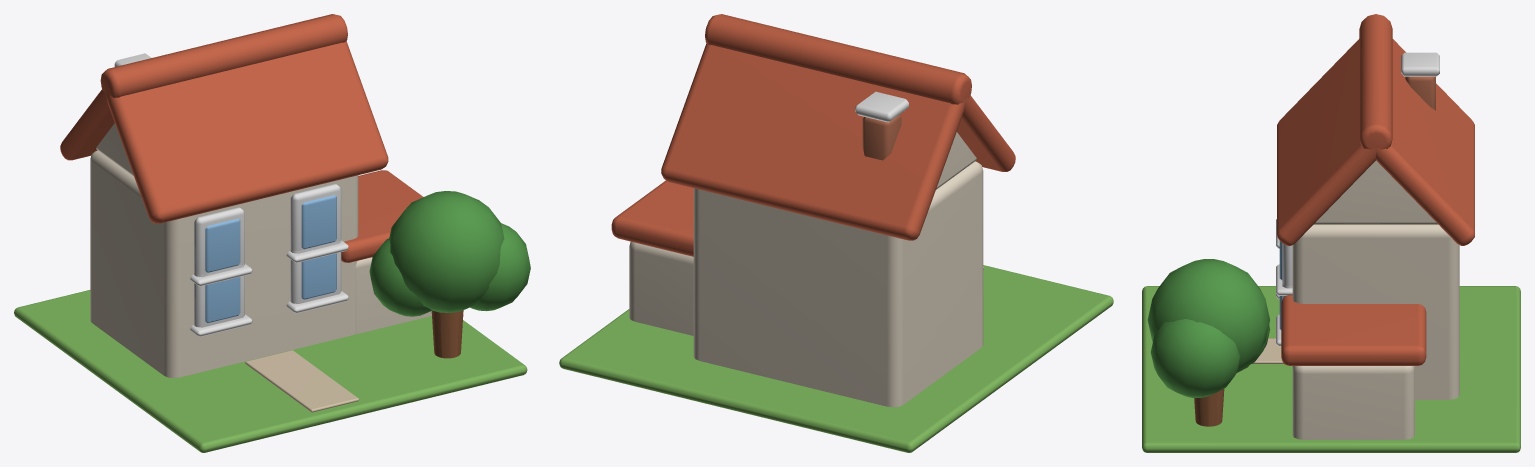
3 renders of one model, left to right at view 1: azimuth 30°, elevation 25°; view 2: azimuth 150°, elevation 25°; view 3: azimuth 270°, elevation 25°, orthographic. The views are drawn at different scales.
Visible parts, largest first — view 1: Cube; view 2: Cube; view 3: Cube.
Boxes of the visible parts, <box> form: Cube: <box>14,14,530,452</box>; Cube: <box>559,14,1113,452</box>; Cube: <box>1142,14,1520,452</box>.
Bounding box in the file's own units: 0.7264 × 0.582 × 0.68.
